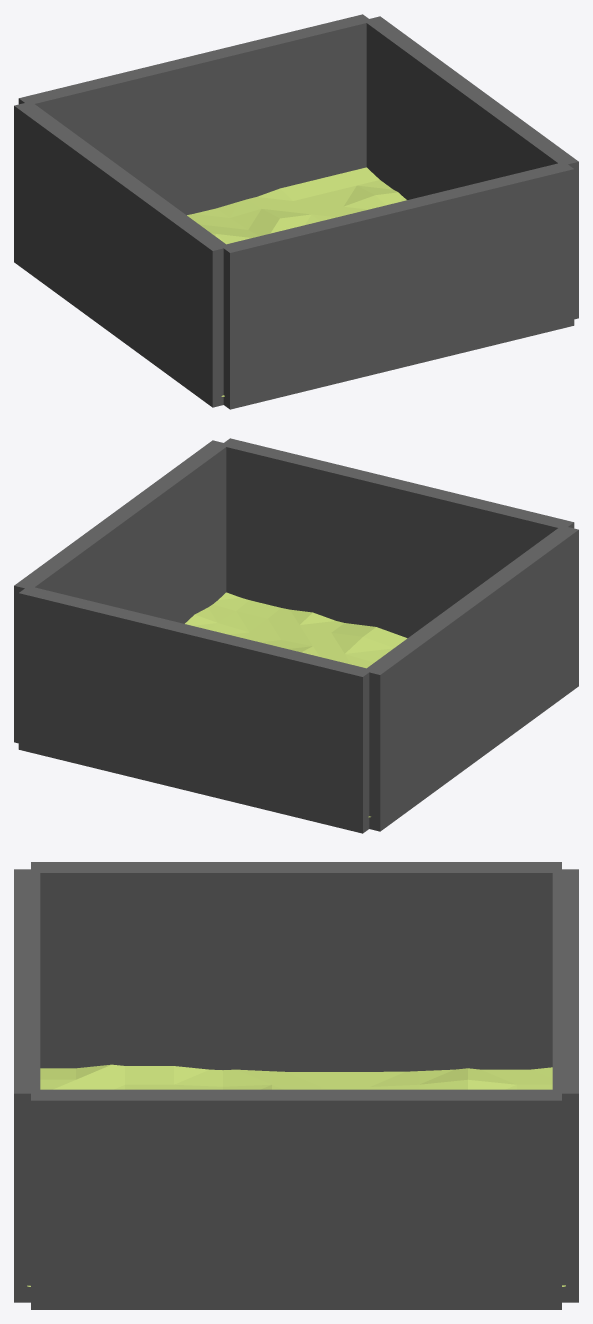
File: Map01.fbx
3 views of the same model, one above another, from view 1: azimuth 30°, elevation 25°; view 2: azimuth 150°, elevation 25°; view 3: azimuth 270°, elevation 25° (orthographic). The views are drawn at different scales.
Visible parts, largest first — view 1: Cube.002, Plane; view 2: Cube.002, Plane; view 3: Cube.002, Plane.
Part boxes in pixels (x1=…): Cube.002: x1=14, y1=14, x2=578, y2=409; Plane: x1=187, y1=167, x2=406, y2=396; Cube.002: x1=14, y1=438, x2=578, y2=833; Plane: x1=185, y1=592, x2=407, y2=817; Cube.002: x1=14, y1=862, x2=578, y2=1309; Plane: x1=27, y1=1064, x2=565, y2=1286.
Size of the model in its own units: 1469 by 600 by 1469.
